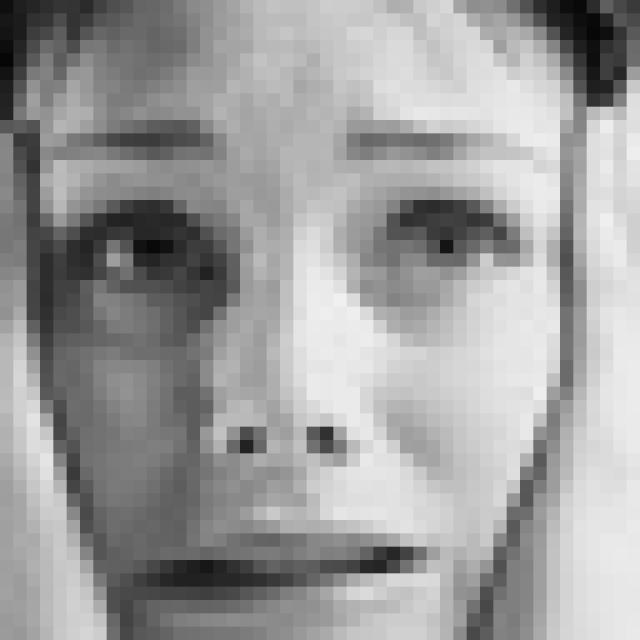fear: (42, 101, 547, 634)
